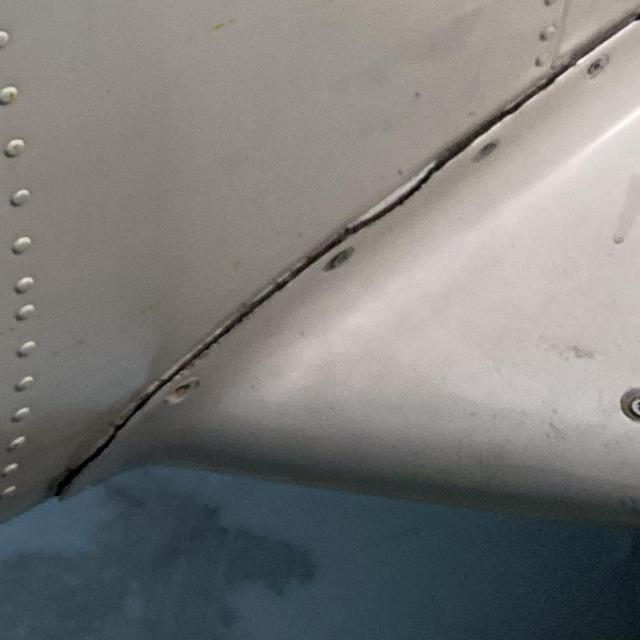Crack: (295, 61, 575, 273), (38, 293, 284, 516)
